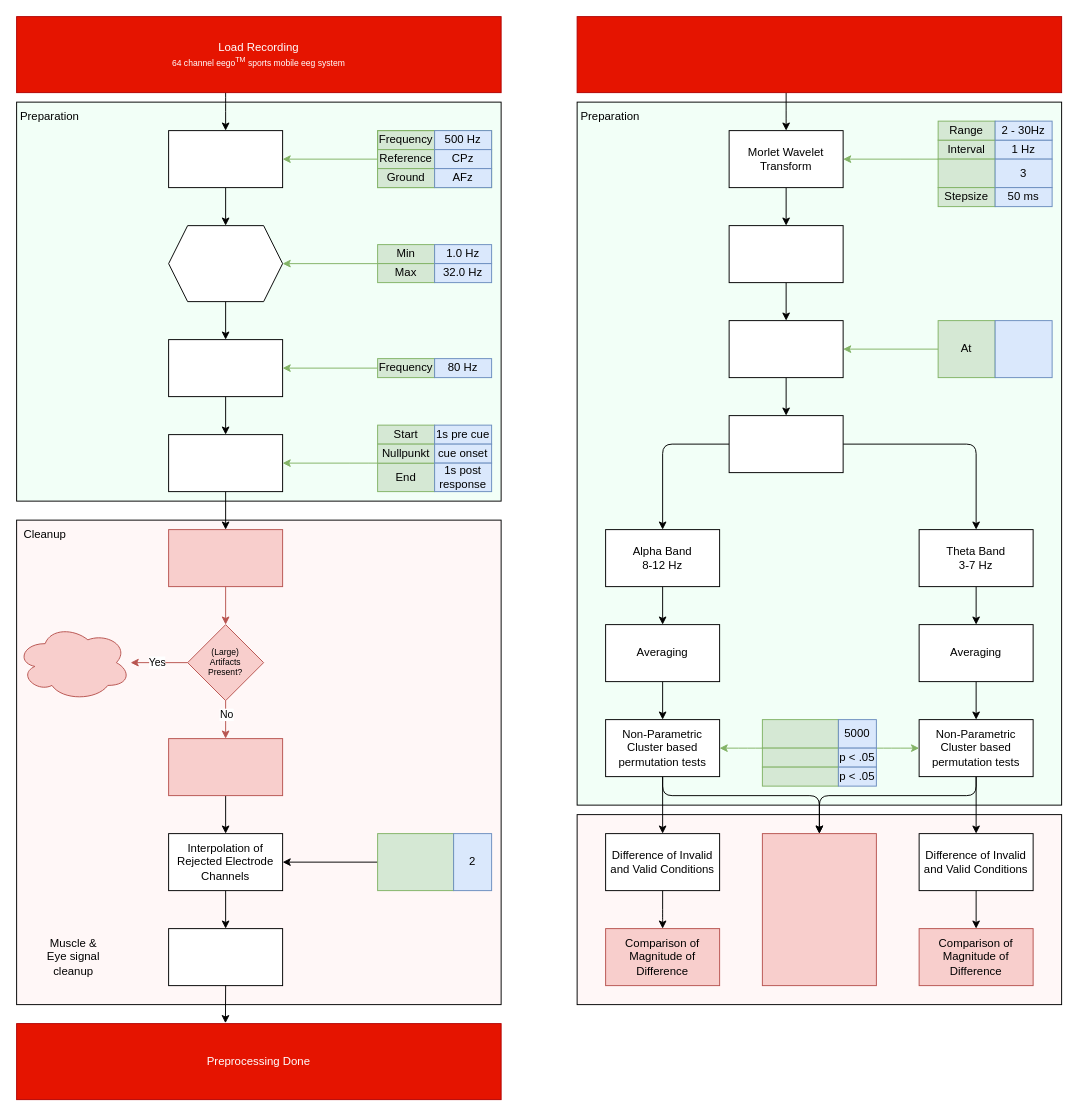
The diagram is 1078 pixels wide and 1116 high, and some of its shapes have lost their labels. The shapes that lost their labels are listed below. From the top down, each one's centre as x and y in pixels, then its label:
[819,54]: Preprocessed Data
[225,159]: Load Raw Data
[966,173]: Cycles / window
[225,263]: Bandpass Filter
[785,254]: Average within Condition
[225,368]: Downsampling
[785,349]: Baseline Correction
[1023,349]: 500 ms - 100 ms pre cue
[225,463]: Epoched
[785,444]: Time-Frequency Representation Generation
[225,558]: Artifact Inspection
[73,662]: Reject in Channels / Subjects / Time
[799,733]: Permutation Count
[225,767]: Re-Referencing
[799,757]: cluster alpha
[799,776]: critical alpha
[415,862]: Max. Interpolated Electrode Channels
[818,909]: Analysis ERP Peaks Statistical Decoding Source Space Time Frequency
[225,957]: FastICA
